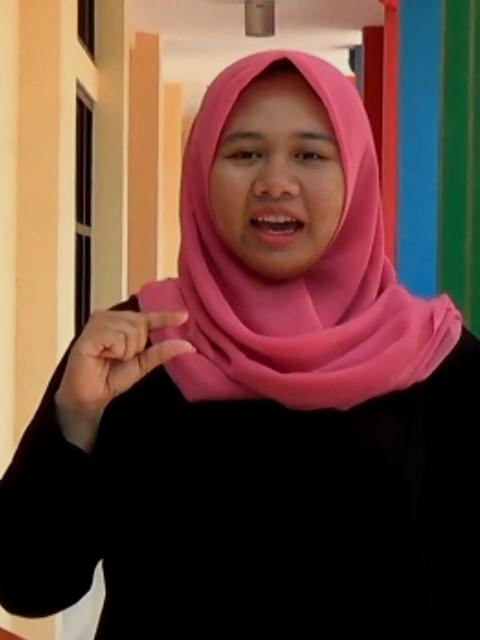G: (56, 304, 196, 408)
